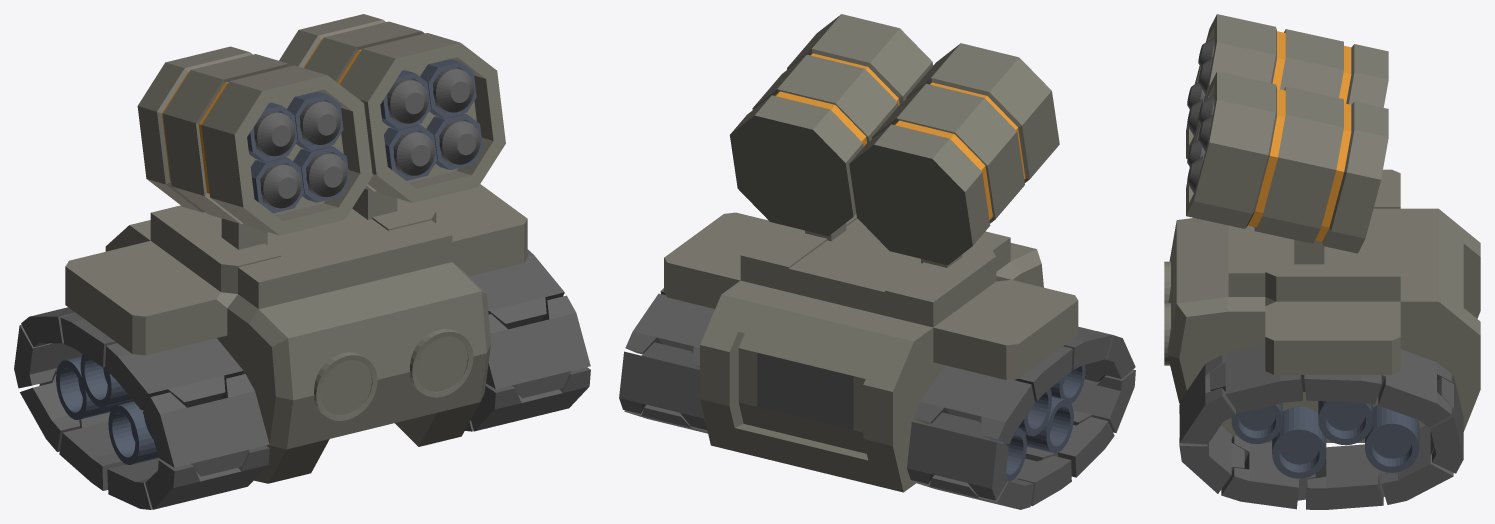
Rendered from tankArtillery.fbx.
The picture shows the model from 3 angles, left to right: view 1: azimuth 30°, elevation 25°; view 2: azimuth 150°, elevation 25°; view 3: azimuth 270°, elevation 25°; orthographic projection. The views are drawn at different scales.
Visible parts, largest first — view 1: tankBody.003, tracks.003, launcherBody.001, rocket.001, rocketPod.001, light.007, light.006, Cylinder.028, attachPoint.001, Cylinder.030, Cylinder.029; view 2: tankBody.003, launcherBody.001, tracks.003, Cylinder.028, Cylinder.029, Cylinder.030, Cylinder.027; view 3: tankBody.003, launcherBody.001, tracks.003, Cylinder.028, Cylinder.030, rocket.001, Cylinder.029, Cylinder.027, attachPoint.001, light.007.
Part boxes in pixels (box(x1,y1,x2,y2)): tankBody.003: box(65, 184, 527, 483); tracks.003: box(14, 249, 590, 509); launcherBody.001: box(137, 14, 505, 235); rocket.001: box(254, 68, 480, 208); rocketPod.001: box(247, 59, 482, 213); light.007: box(410, 329, 473, 397); light.006: box(314, 352, 377, 420); Cylinder.028: box(108, 401, 158, 464); attachPoint.001: box(221, 189, 397, 249); Cylinder.030: box(56, 356, 133, 419); Cylinder.029: box(80, 354, 132, 407); tankBody.003: box(664, 212, 1078, 492); launcherBody.001: box(730, 14, 1059, 265); tracks.003: box(619, 288, 1135, 509); Cylinder.028: box(1025, 396, 1073, 453); Cylinder.029: box(1018, 388, 1051, 436); Cylinder.030: box(991, 428, 1026, 481); Cylinder.027: box(1050, 364, 1085, 403); tankBody.003: box(1167, 169, 1480, 442); launcherBody.001: box(1186, 14, 1388, 253); tracks.003: box(1179, 344, 1463, 509); Cylinder.028: box(1272, 406, 1326, 478); Cylinder.030: box(1365, 404, 1419, 472); rocket.001: box(1187, 37, 1214, 192); Cylinder.029: box(1318, 401, 1372, 445); Cylinder.027: box(1231, 403, 1282, 444); attachPoint.001: box(1294, 240, 1324, 264); light.007: box(1164, 303, 1170, 365).
Bounding box in the file's own units: 285 × 268 × 212.
3 materials, 3 textured.
